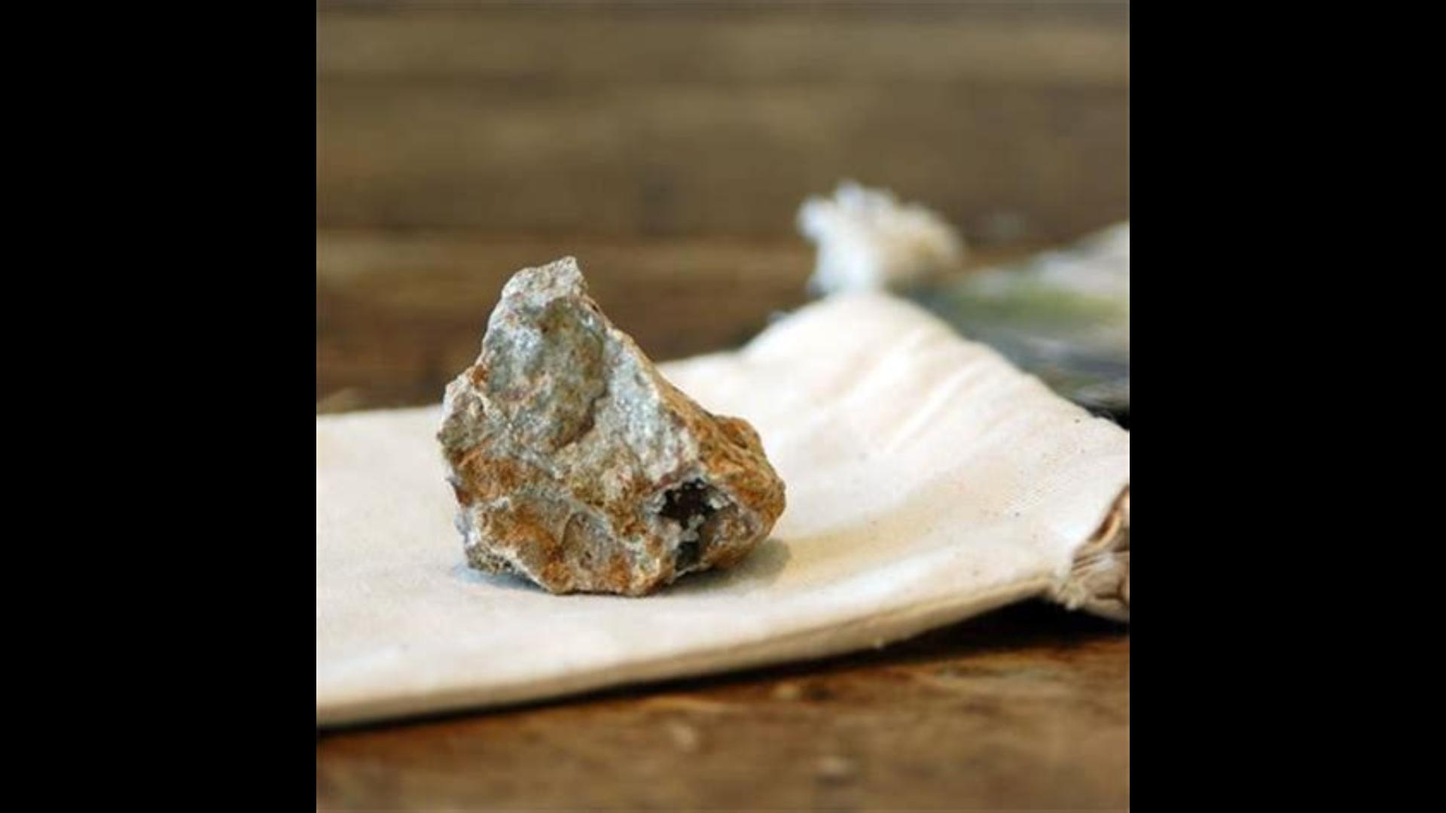rock: (440, 257, 783, 593)
